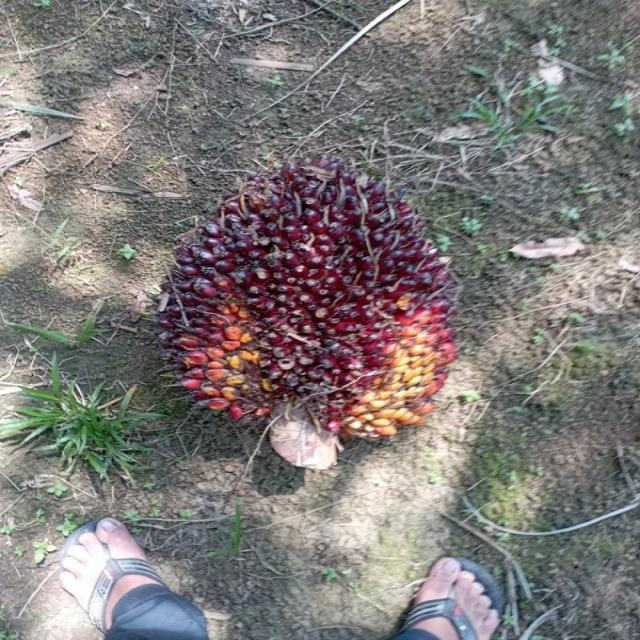fraksi 1: (148, 160, 475, 448)
